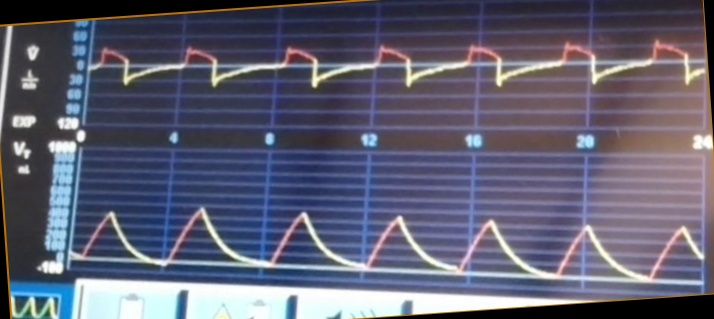Normal Flow: (93, 24, 702, 121)
Normal Volume: (75, 188, 701, 281)
